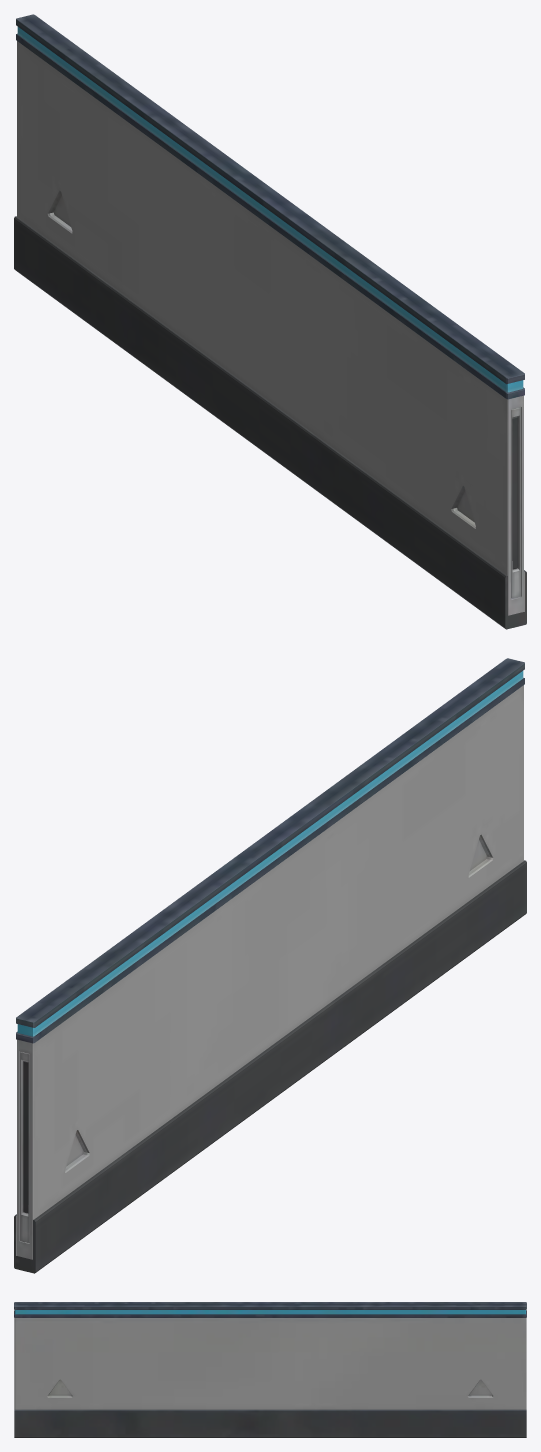
Rendered from SM_Fence_SF_21d946.glb.
The picture shows the model from 3 angles, top to bottom: view 1: azimuth 30°, elevation 25°; view 2: azimuth 150°, elevation 25°; view 3: azimuth 270°, elevation 25°; orthographic projection. The views are drawn at different scales.
Bounding box in the file's own units: 0.1012 × 1.13 × 4.
1 material, 1 textured.
